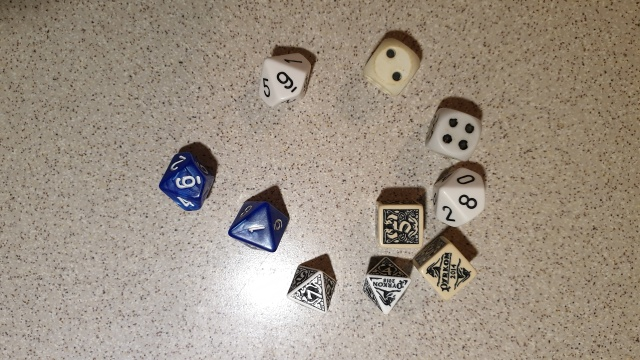d10-1: (223, 194, 293, 256)
d10-6: (155, 149, 212, 221)
d10-8: (425, 162, 492, 230)
d10-9: (252, 45, 313, 108)
d6-2: (363, 35, 423, 94)
d6-4: (420, 105, 483, 161)
d6p-1: (415, 237, 480, 305)
d6p-5: (375, 197, 425, 251)
d8p-1: (361, 256, 411, 319)
d8p-7: (284, 260, 338, 316)
